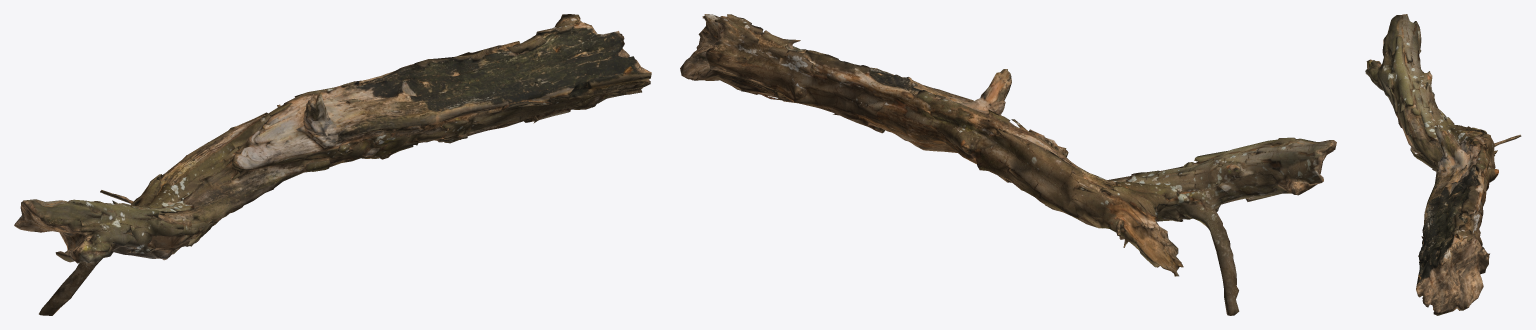
File: dead_tree_trunk_02.glb
3 views of the same model, side by side, from view 1: azimuth 30°, elevation 25°; view 2: azimuth 150°, elevation 25°; view 3: azimuth 270°, elevation 25° (orthographic). The views are drawn at different scales.
Visible parts, largest first — view 1: dead_tree_trunk_02; view 2: dead_tree_trunk_02; view 3: dead_tree_trunk_02.
Part boxes in pixels (box(x1,y1,x2,y2)): dead_tree_trunk_02: box(14, 14, 651, 315); dead_tree_trunk_02: box(680, 14, 1336, 315); dead_tree_trunk_02: box(1365, 14, 1521, 315).
Size of the model in its own units: 4.05 by 1.05 by 1.05.
1 material, 1 textured.
